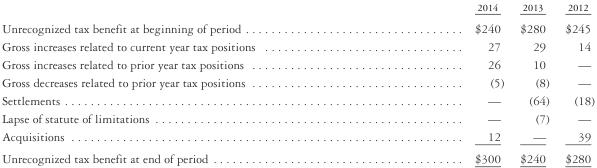table: (1, 0, 593, 165)
table column: (1, 0, 364, 165), (364, 0, 511, 165), (511, 0, 556, 165), (556, 0, 593, 165)
table column header: (1, 0, 593, 16)
table row: (1, 16, 593, 36), (1, 127, 593, 147), (1, 36, 593, 55), (1, 55, 593, 73), (1, 73, 593, 91), (1, 91, 593, 109), (1, 109, 593, 127), (1, 147, 593, 165), (1, 0, 593, 16)
